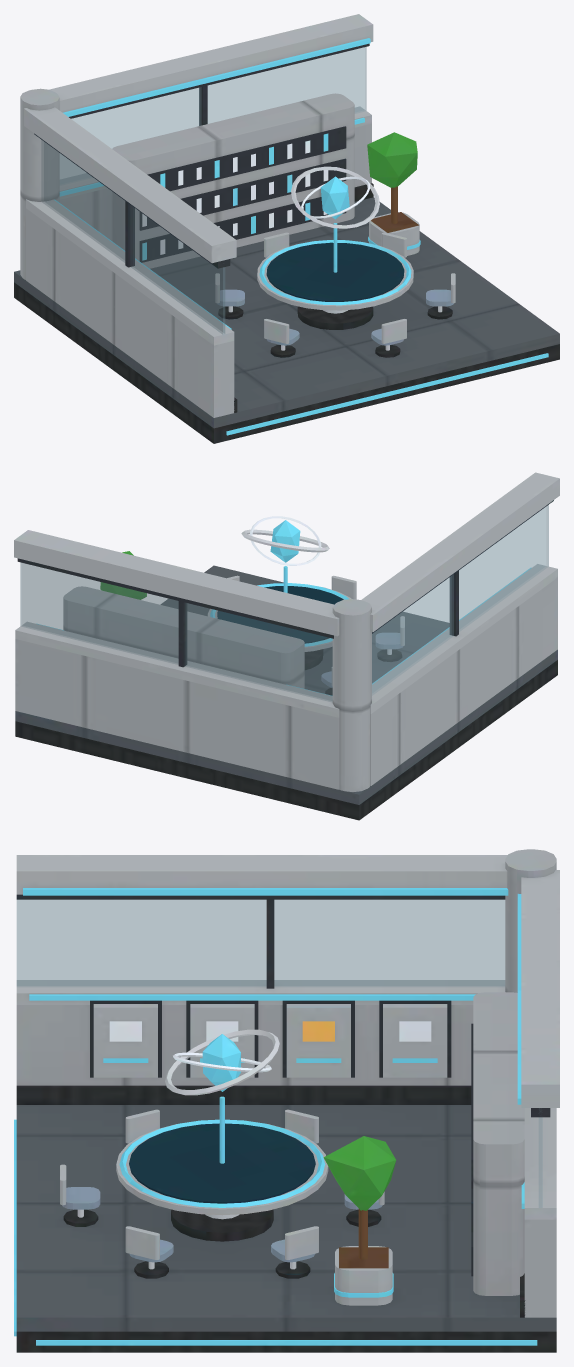
File: enterprise_elite_academy.glb
The picture shows the model from 3 angles, top to bottom: view 1: azimuth 30°, elevation 25°; view 2: azimuth 150°, elevation 25°; view 3: azimuth 270°, elevation 25°; orthographic projection. The views are drawn at different scales.
Parts seen in each view (by area): view 1: te_enterprise_elite_academy, move_sensor; view 2: te_enterprise_elite_academy, move_sensor; view 3: te_enterprise_elite_academy, move_sensor.
Boxes of the visible parts, <box> form: te_enterprise_elite_academy: <box>14,14,559,443</box>; move_sensor: <box>291,166,379,228</box>; te_enterprise_elite_academy: <box>14,472,559,820</box>; move_sensor: <box>241,516,329,565</box>; te_enterprise_elite_academy: <box>14,849,559,1352</box>; move_sensor: <box>165,1029,279,1095</box>.
Size of the model in its own units: 0.849 by 0.472 by 0.849.
Materials: 2 (1 with a texture image).
